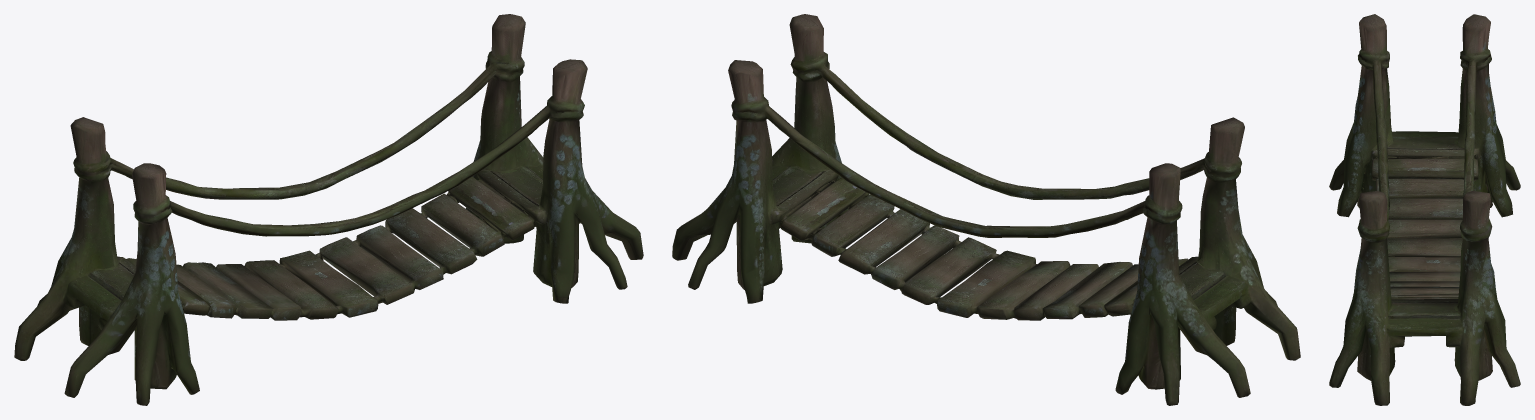
File: mesh_tangle_bridge_a.glb
3 views of the same model, side by side, from view 1: azimuth 30°, elevation 25°; view 2: azimuth 150°, elevation 25°; view 3: azimuth 270°, elevation 25° (orthographic). The views are drawn at different scales.
Visible parts, largest first — view 1: mesh_tangle_bridge_a__Mesh_0; view 2: mesh_tangle_bridge_a__Mesh_0; view 3: mesh_tangle_bridge_a__Mesh_0.
Boxes of the visible parts, x1,y1,x2,y2 form: mesh_tangle_bridge_a__Mesh_0: [14, 14, 643, 405]; mesh_tangle_bridge_a__Mesh_0: [672, 14, 1300, 405]; mesh_tangle_bridge_a__Mesh_0: [1329, 14, 1520, 405].
Size of the model in its own units: 18 by 6.57 by 6.12.
Materials: 1 (1 with a texture image).
